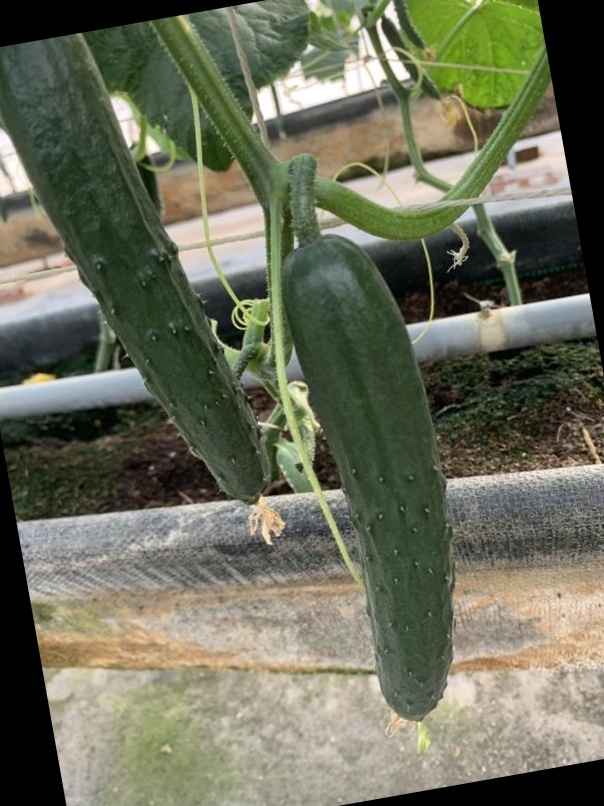mature: (4, 27, 263, 518), (301, 244, 463, 734)
